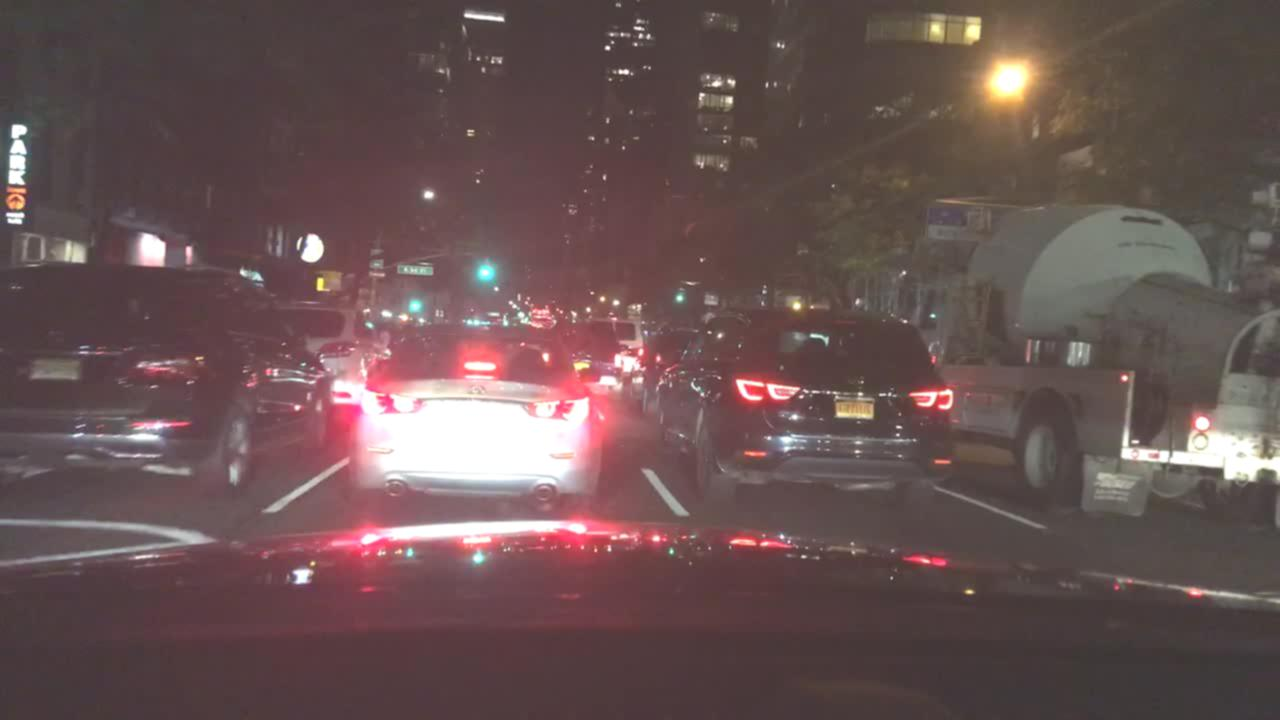Infiniti: (458, 377, 495, 400)
